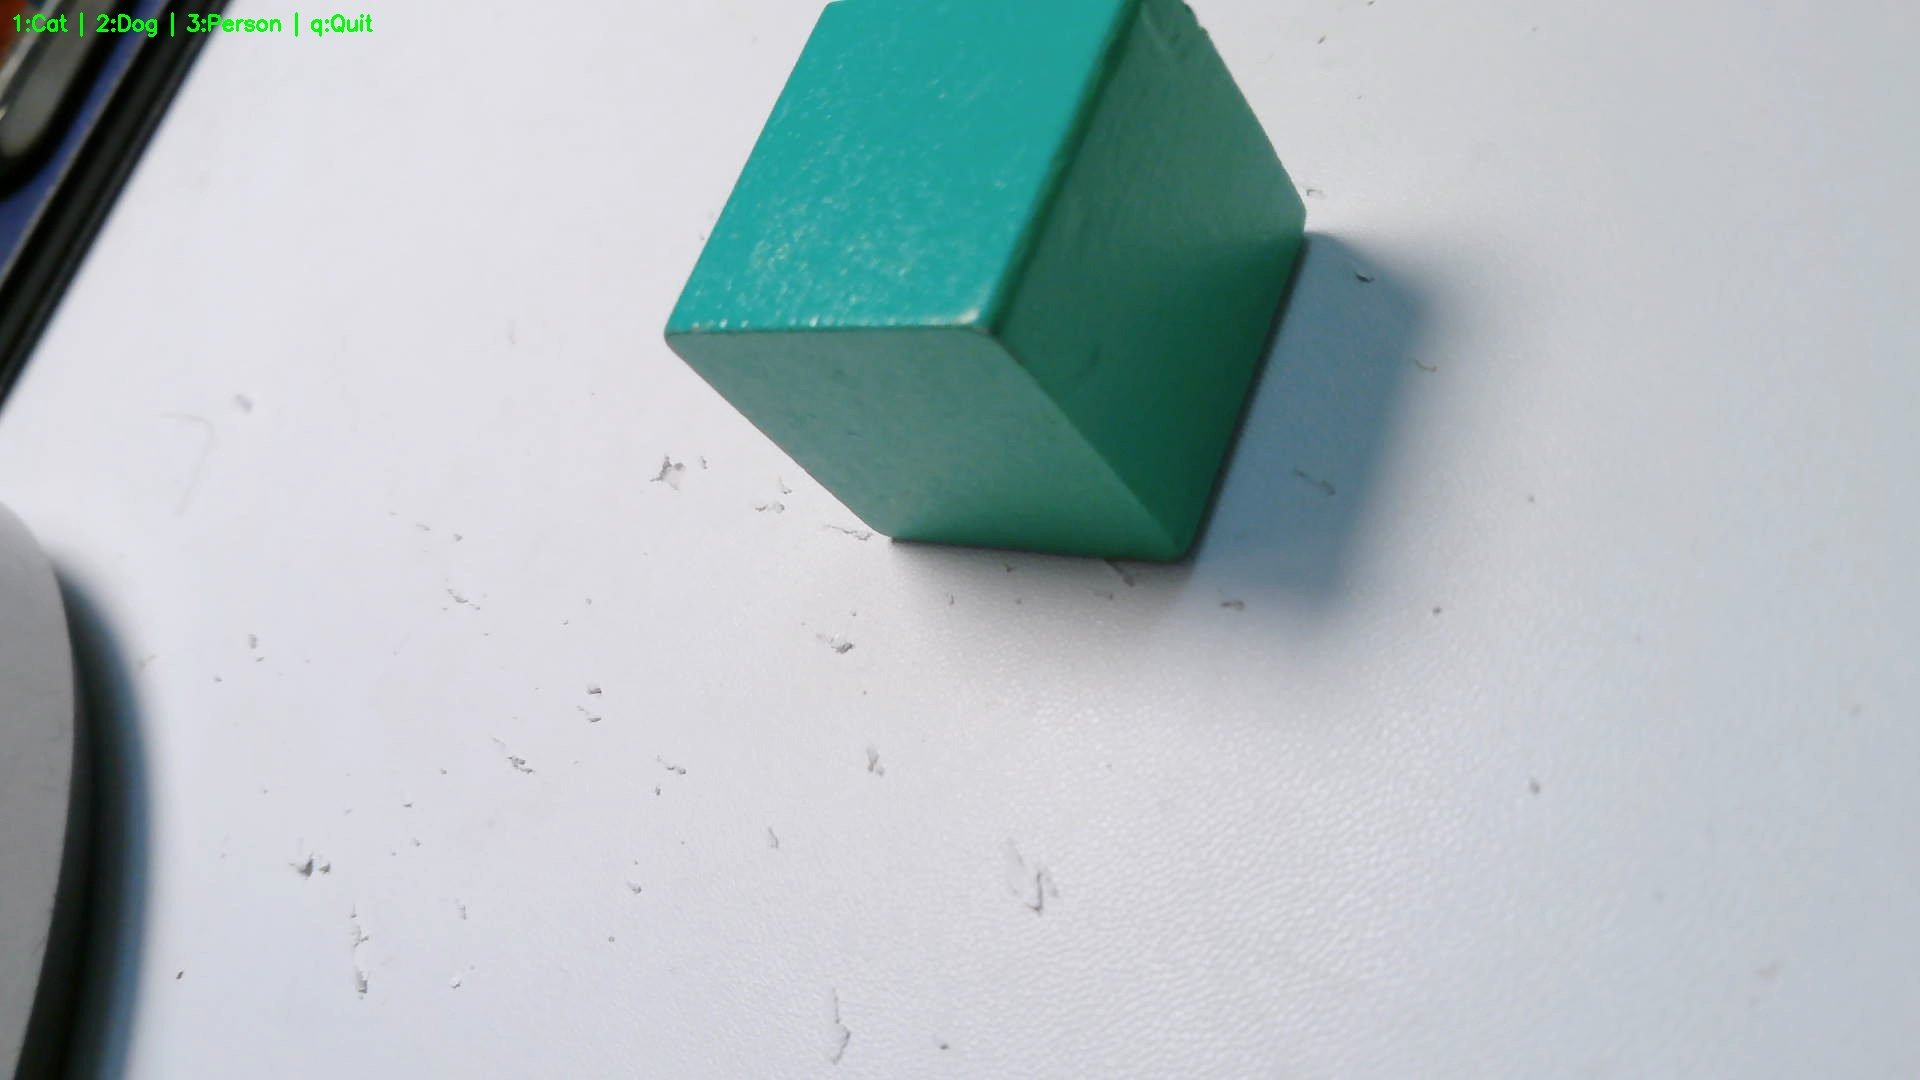green: (667, 1, 1317, 559)
